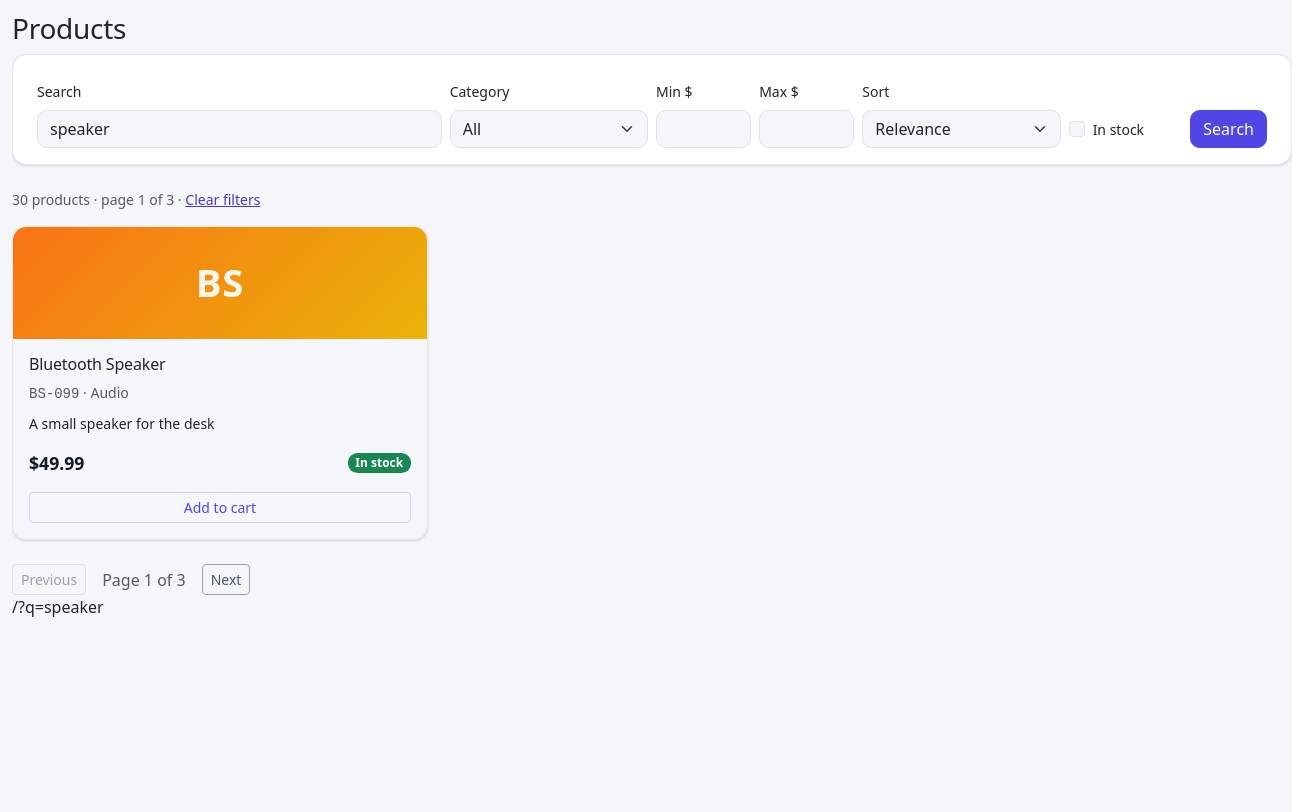
ShopPage › pages through the results with the filters applied and says which page is shown
Click the button "Next": (226, 580) left=202, top=564, right=250, bottom=595
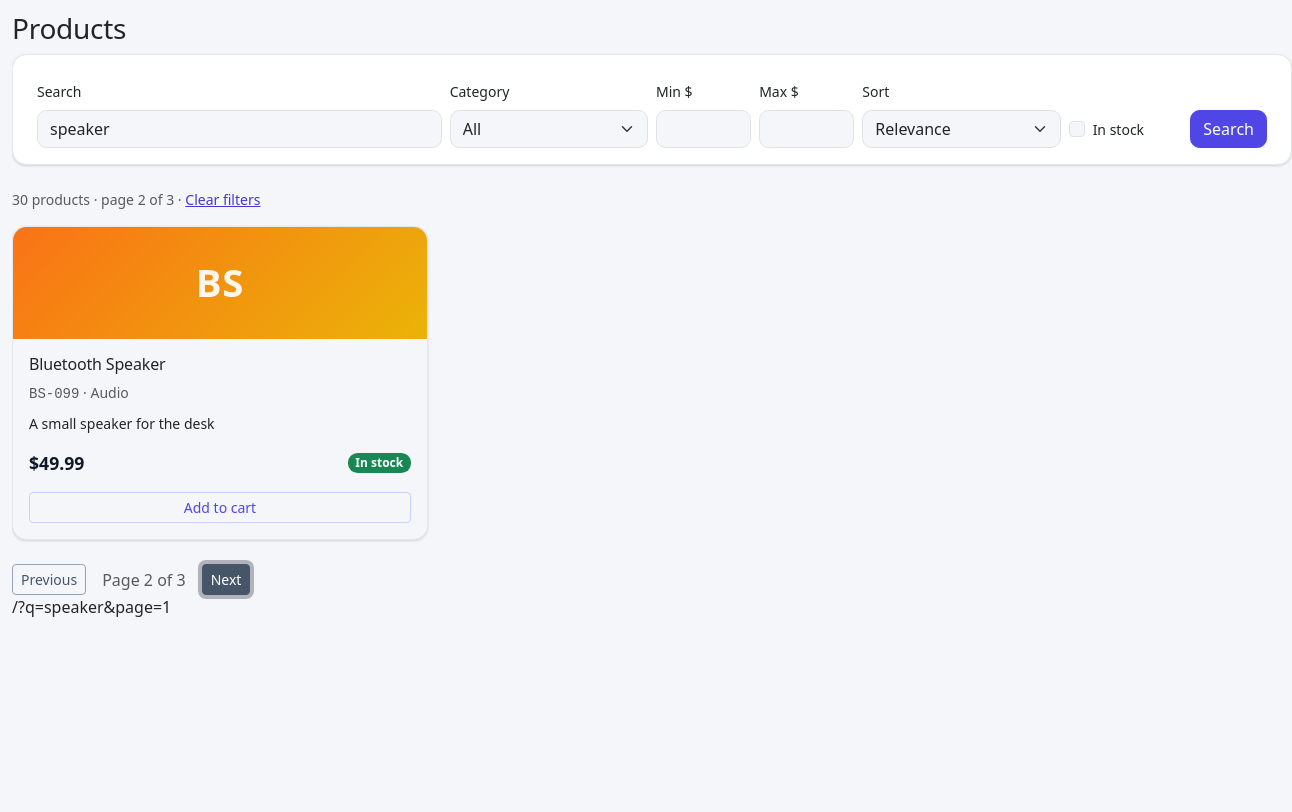
Now the text with test id "location" reads "/?q=speaker&page=1", box left=18, top=596, right=171, bottom=618
Now the text "30 products · page 2 of 3" is shown, box left=12, top=190, right=174, bottom=209
